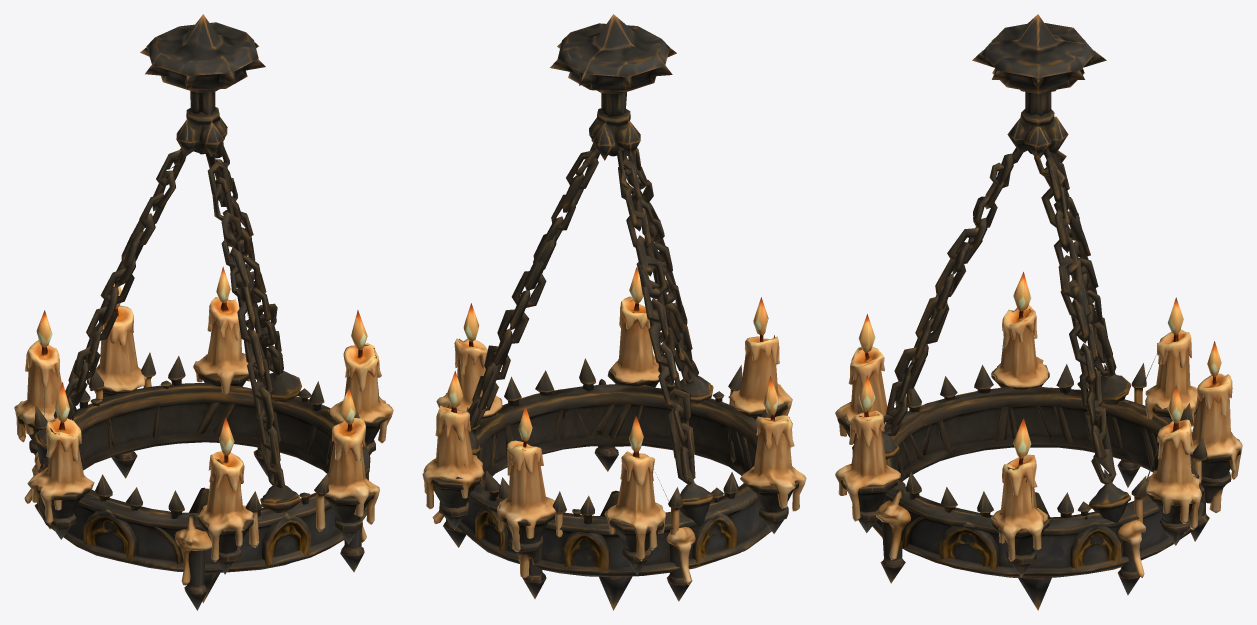
The model's file is Meshy_AI_Gothic_Ceiling_Chande_1109160622_texture.glb.
3 views of the same model, side by side, from view 1: azimuth 30°, elevation 25°; view 2: azimuth 150°, elevation 25°; view 3: azimuth 270°, elevation 25° (orthographic).
Visible parts, largest first — view 1: geometry_0; view 2: geometry_0; view 3: geometry_0.
Boxes of the visible parts, box(x1,y1,x2,y2) form: geometry_0: box(14, 14, 393, 610); geometry_0: box(422, 14, 806, 610); geometry_0: box(835, 14, 1242, 610).
Size of the model in its own units: 0.5981 by 0.9531 by 0.5894.
Materials: 1 (1 with a texture image).
